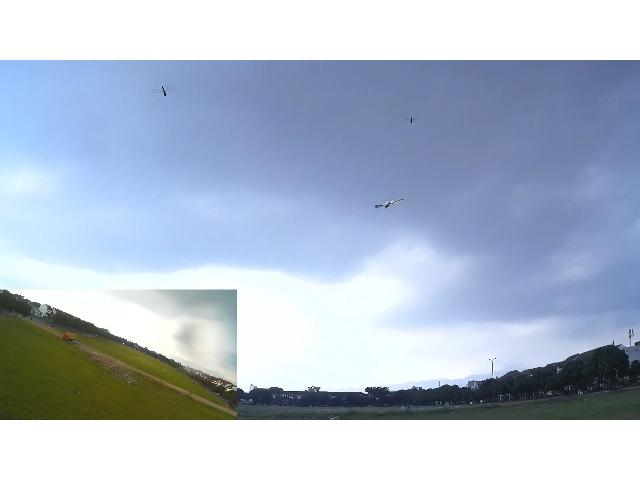Anti-Drone: (376, 198, 404, 208)
